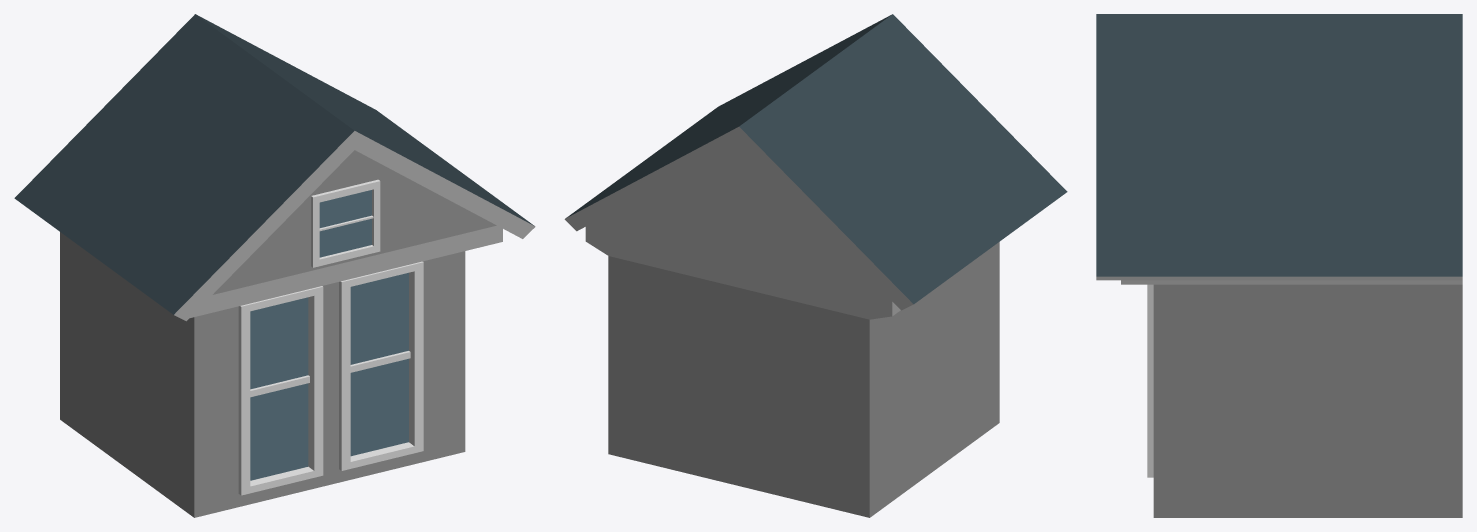
File: house_030.glb
The picture shows the model from 3 angles, left to right: view 1: azimuth 30°, elevation 25°; view 2: azimuth 150°, elevation 25°; view 3: azimuth 270°, elevation 25°; orthographic projection. The views are drawn at different scales.
Visible parts, largest first — view 1: house_030; view 2: house_030; view 3: house_030.
Part boxes in pixels (left/top/right/bottom): house_030: left=14, top=14, right=535, bottom=517; house_030: left=564, top=14, right=1067, bottom=517; house_030: left=1096, top=14, right=1462, bottom=517.
Size of the model in its own units: 3.9 by 3.84 by 2.98.
Materials: 1 (1 with a texture image).
